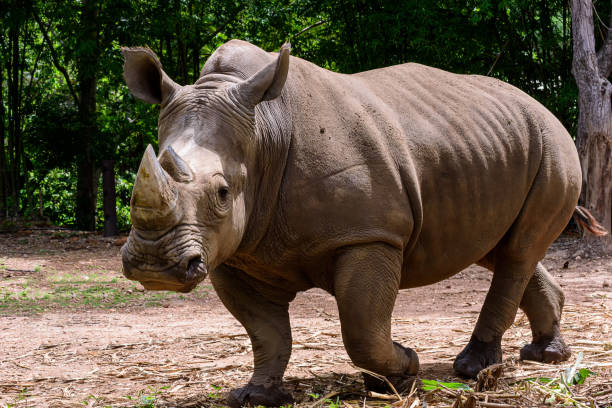rhino: (76, 29, 306, 312)
